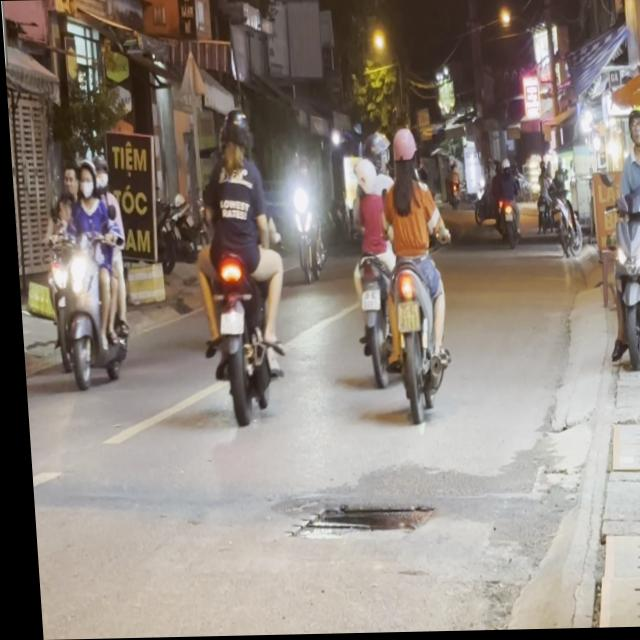helmet: (214, 111, 244, 165), (385, 125, 414, 174), (222, 111, 246, 157), (361, 130, 387, 171), (349, 156, 374, 195), (71, 156, 92, 197), (623, 106, 640, 151), (88, 154, 105, 190)
licenseplate: (182, 104, 286, 424), (371, 123, 451, 417), (35, 152, 130, 390), (337, 127, 397, 386), (595, 102, 640, 371)
nohelmet: (390, 303, 414, 331), (213, 310, 238, 334), (354, 289, 375, 309)
